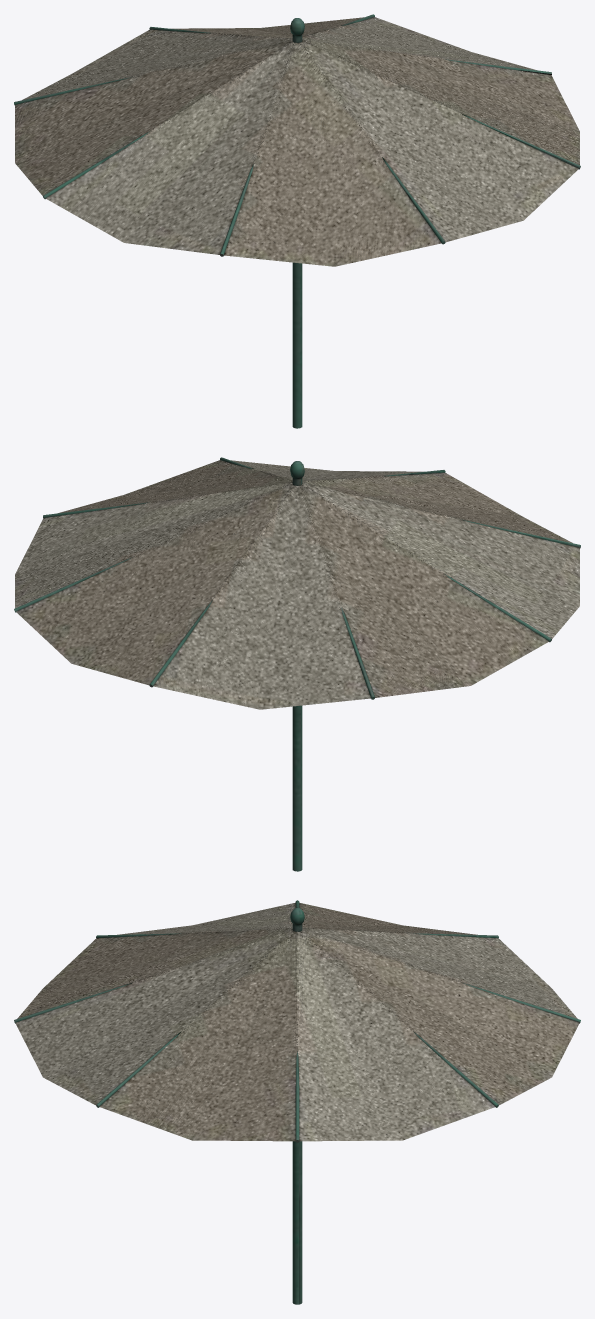
Rendered from parasol.glb.
The picture shows the model from 3 angles, top to bottom: view 1: azimuth 30°, elevation 25°; view 2: azimuth 150°, elevation 25°; view 3: azimuth 270°, elevation 25°; orthographic projection. The views are drawn at different scales.
Visible parts, largest first — view 1: canopy; view 2: canopy; view 3: canopy.
Boxes of the visible parts, x1,y1,x2,y2 form: canopy: (14,14,580,428); canopy: (14,457,580,871); canopy: (14,900,580,1304).
Size of the model in its own units: 2.31 by 1.77 by 2.31.
1 material, 1 textured.
